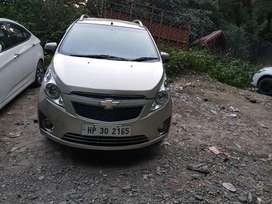HP302165: (81, 124, 131, 137)
